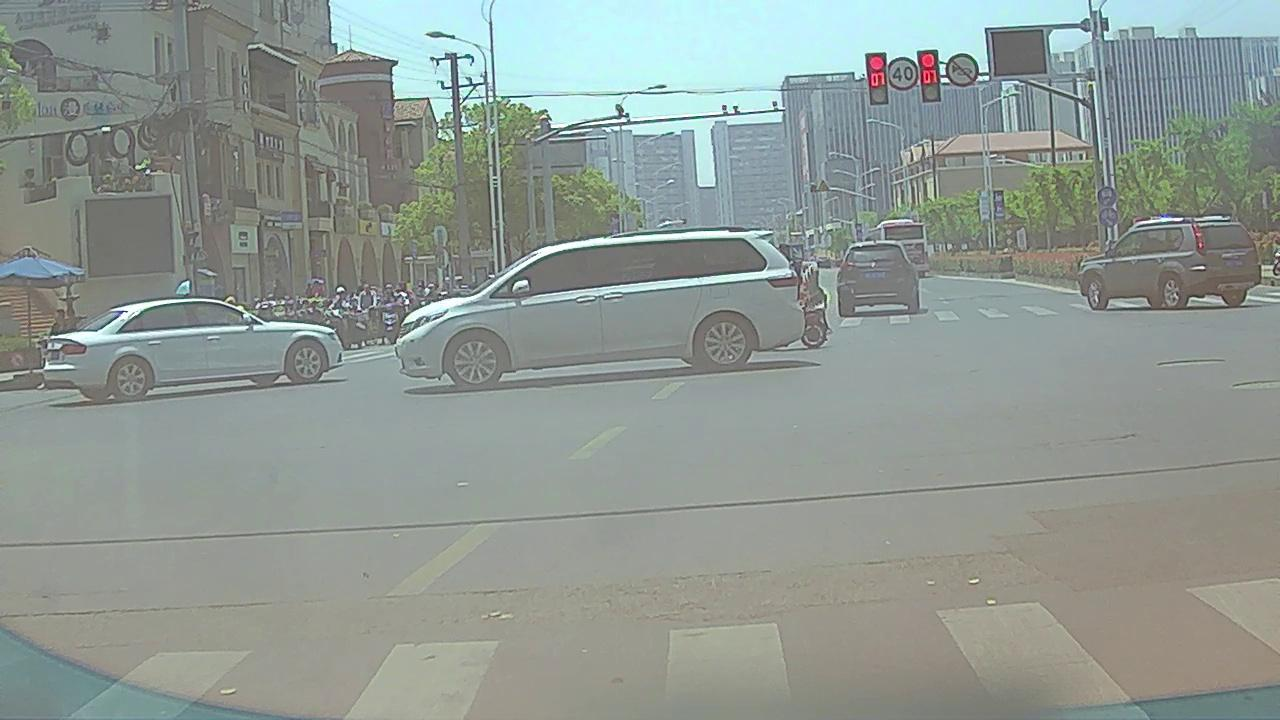traffic_light: (916, 51, 943, 103), (866, 54, 888, 105)
